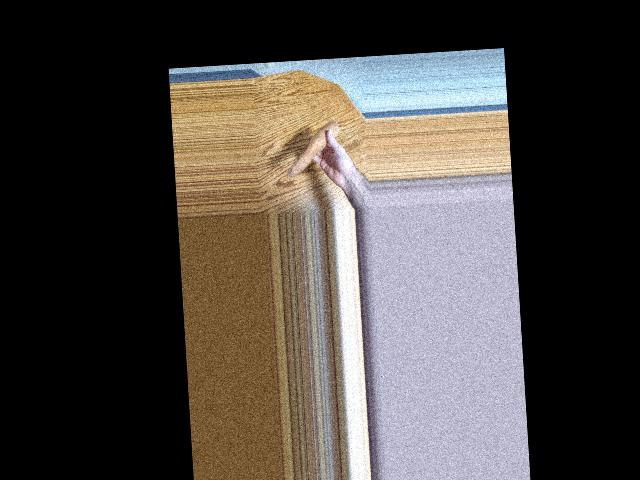sweet_potato: (285, 122, 342, 176)
